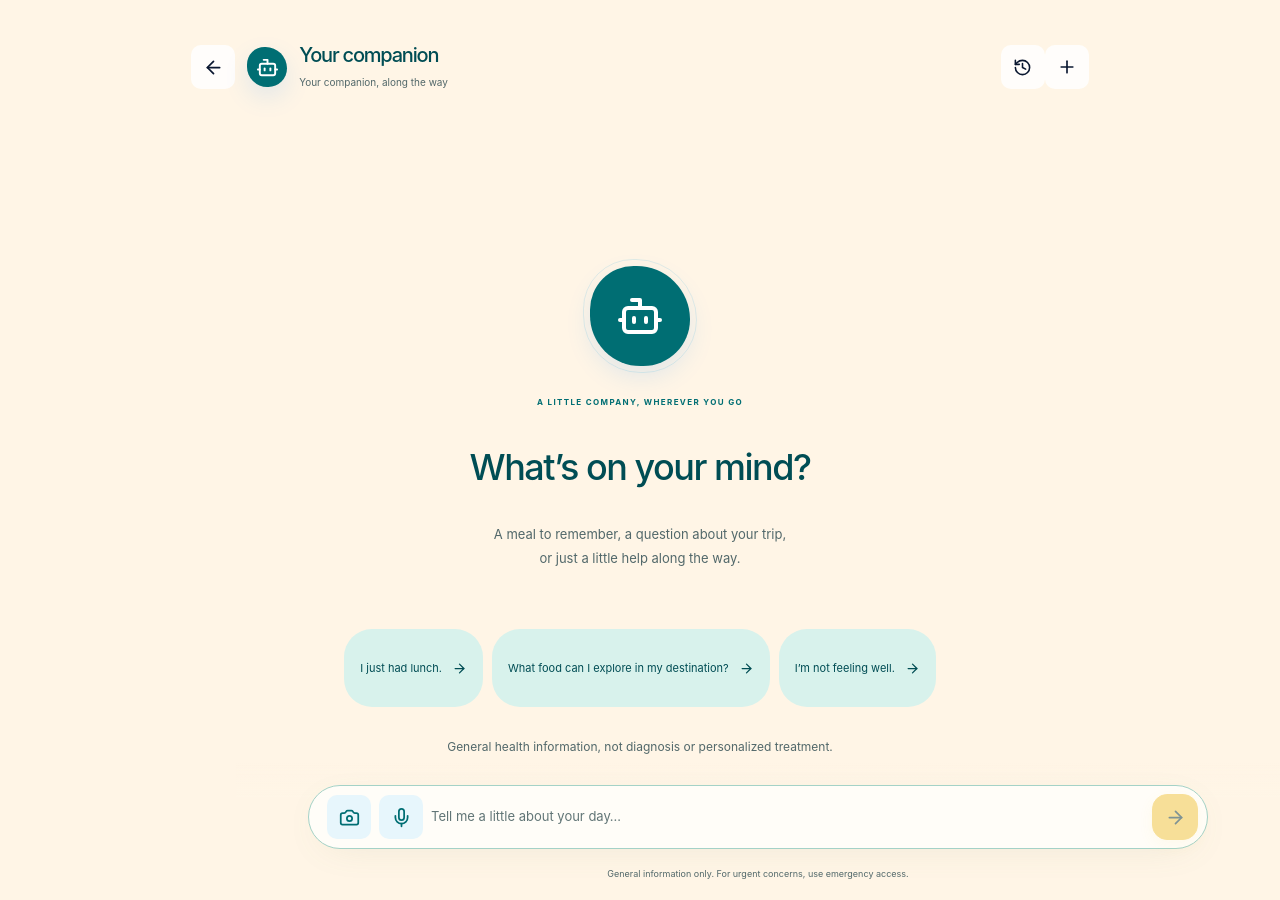
Scenario: care in the conversation › handles a plain pharmacy request locally for a signed-out user
The width and height of the screenshot is (1280, 900).
Type "Find a pharmacy near me" into the text box named "Message LINC-33". click: (788, 817)
box: [431, 798, 1144, 836]
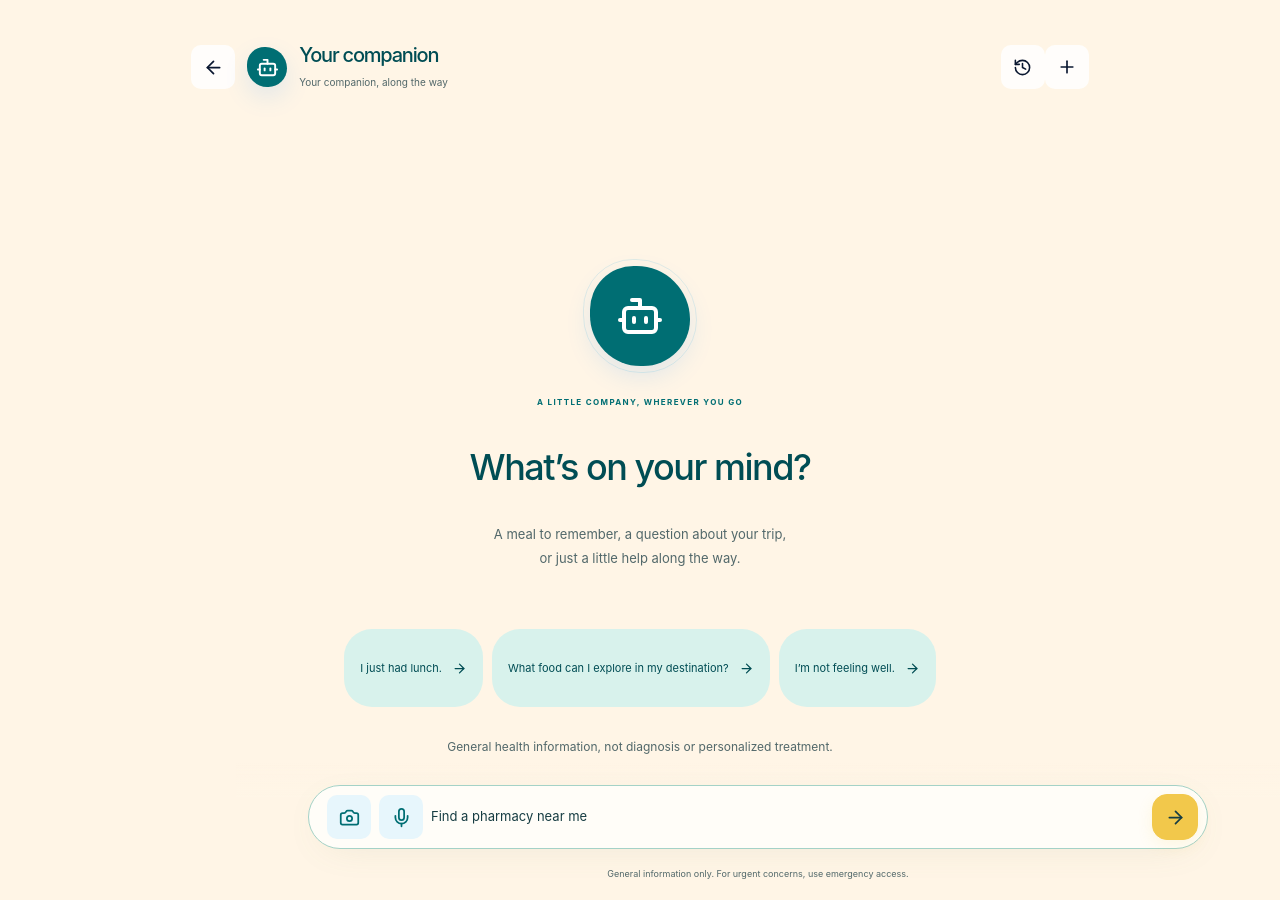
Click the button named "Send message". click: click(1175, 817)
box: [1152, 794, 1198, 840]
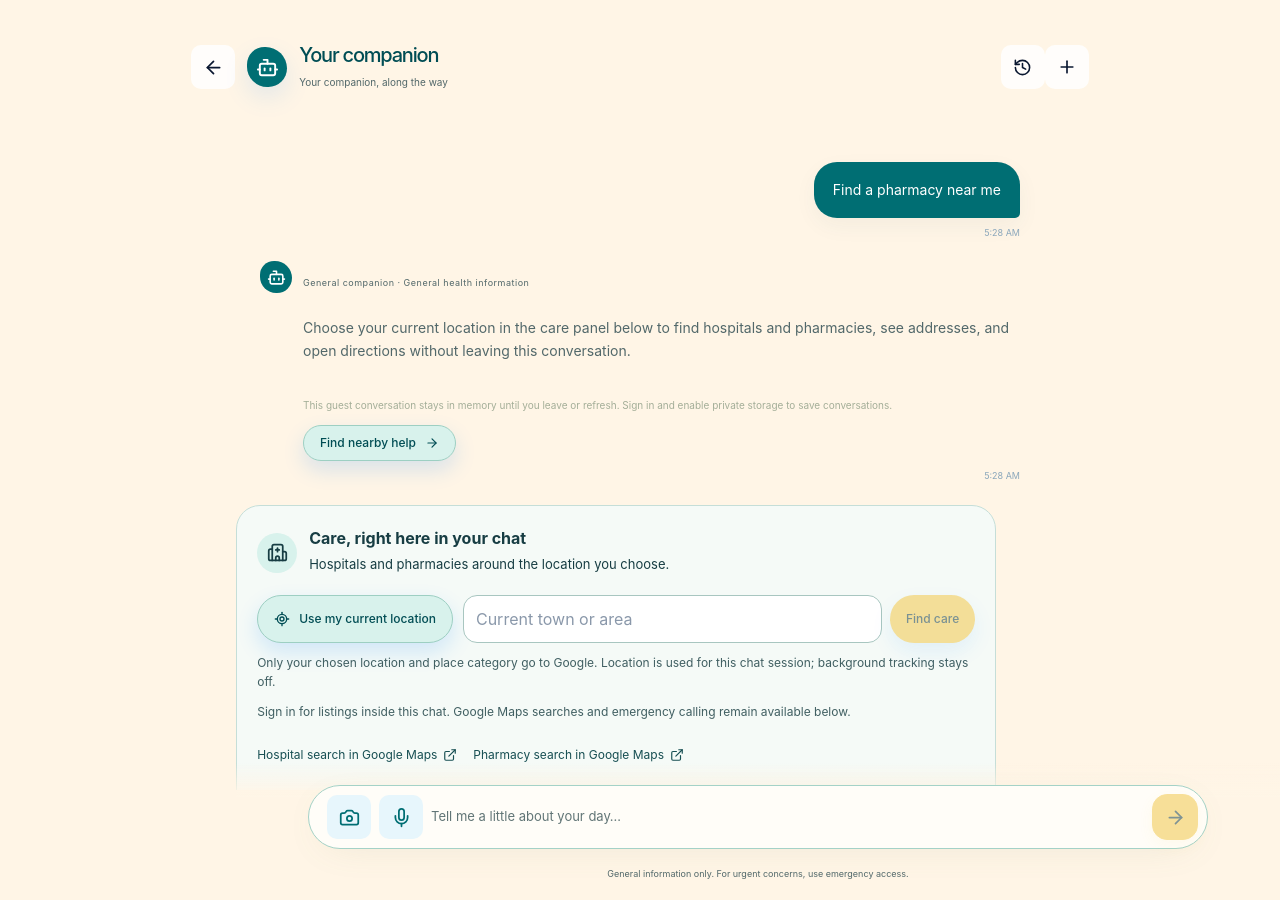
Result: the element named "Care near you" is shown at [236, 505, 996, 790]
